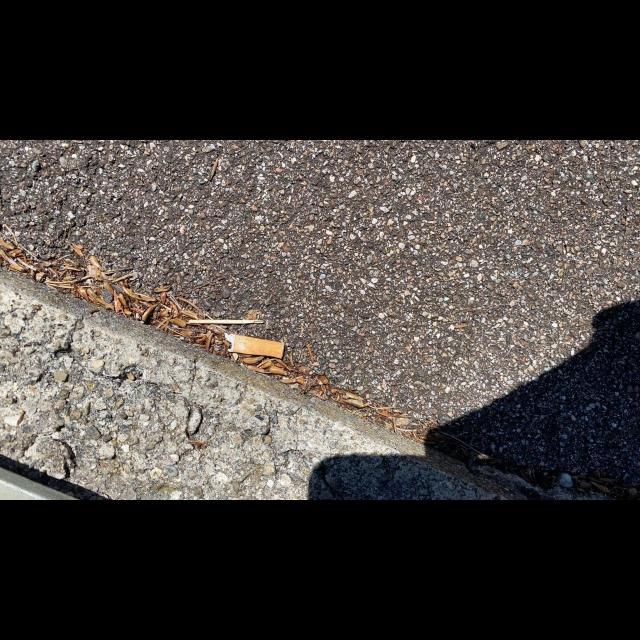cigarette: (224, 331, 285, 359)
